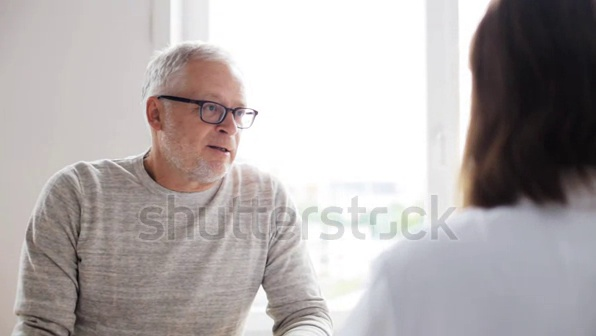No Mask: (140, 42, 263, 187)
